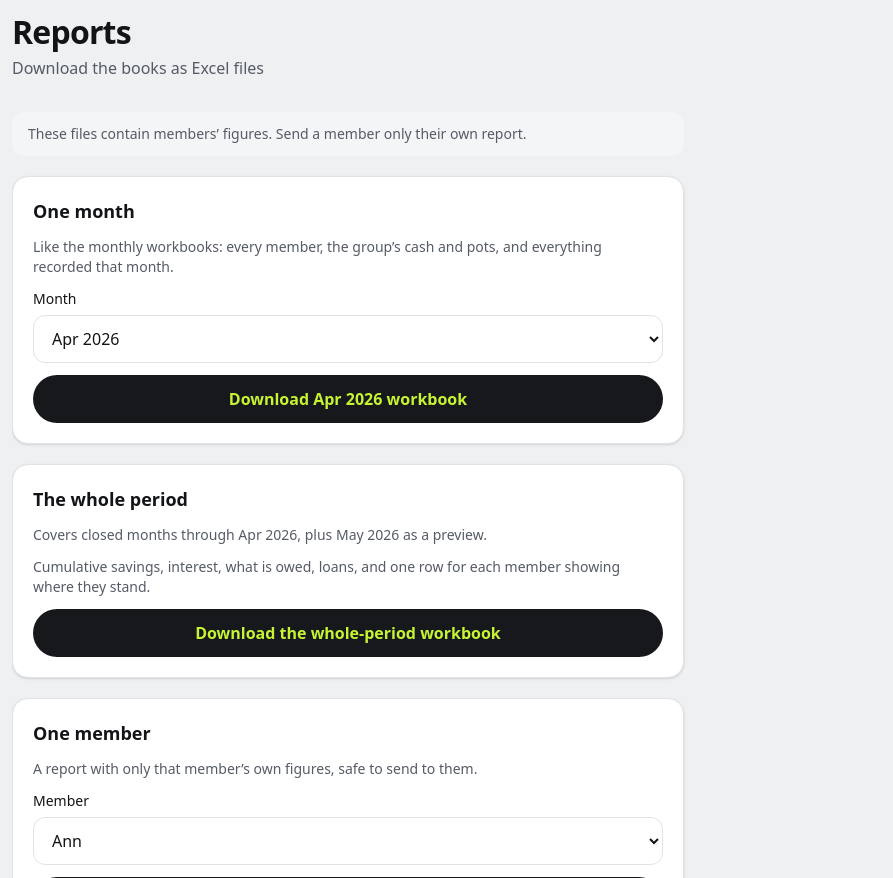
downloading a month loads it once and hands the file to the browser
Click the button "Download Apr 2026 workbook": point(348, 399) [33,375,663,423]
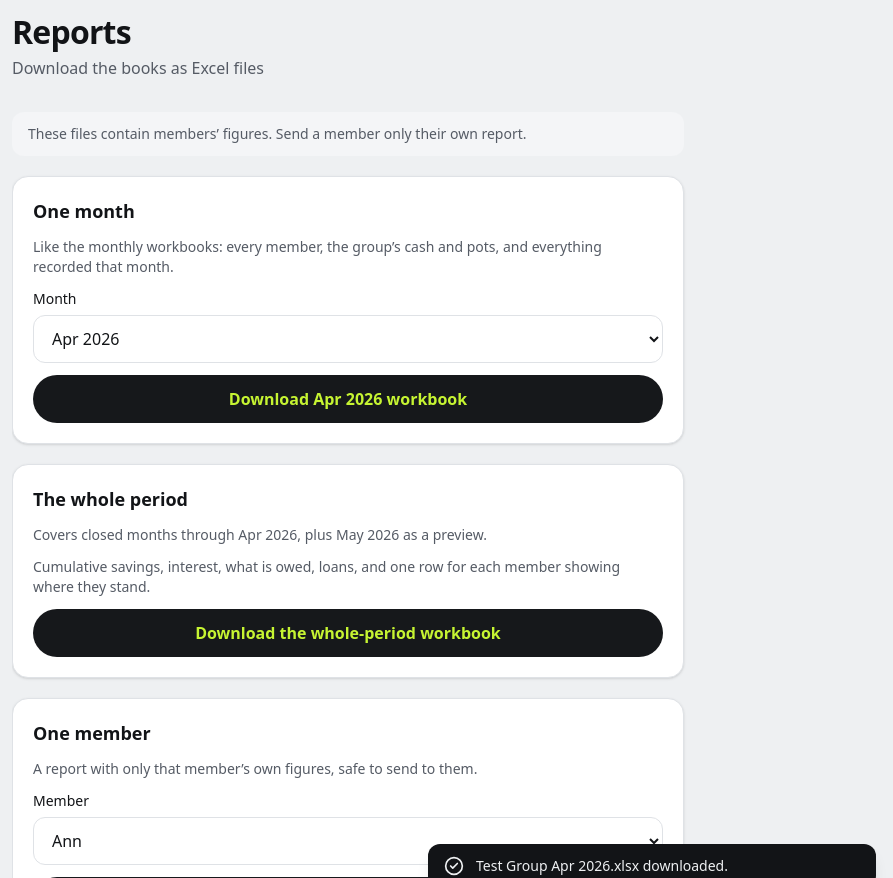
Check: the text "Test Group Apr 2026.xlsx downloaded." is shown, box [476,856,728,875]
